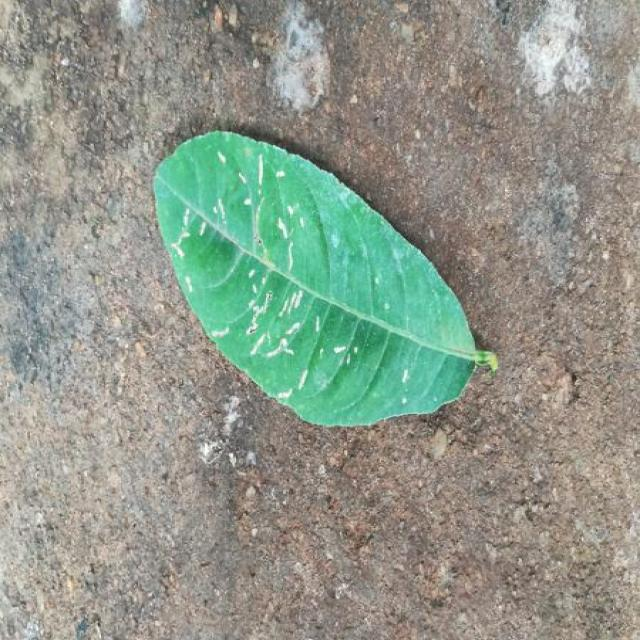badipala: (153, 131, 497, 426)
defectedbadipala: (157, 172, 460, 328)
